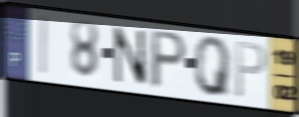8: (69, 19, 101, 83)
I: (38, 14, 50, 78)
N: (112, 24, 149, 89)
P: (148, 29, 189, 92), (234, 40, 268, 101)
Q: (192, 35, 234, 99)
